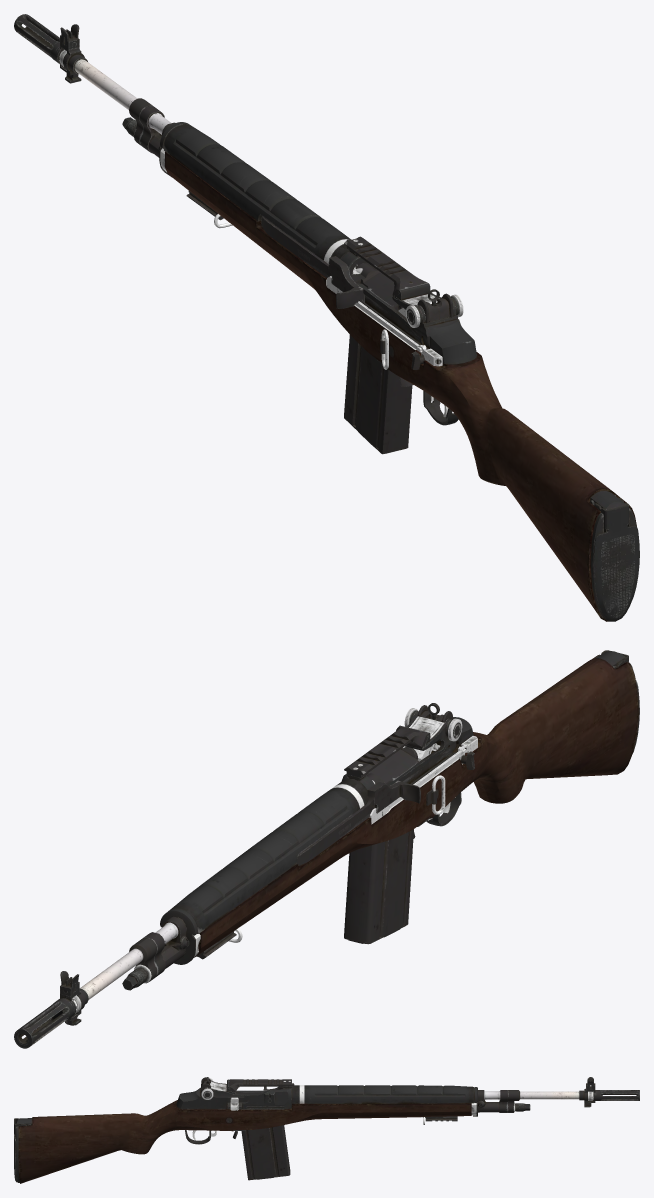
The picture shows the model from 3 angles, top to bottom: view 1: azimuth 30°, elevation 25°; view 2: azimuth 150°, elevation 25°; view 3: azimuth 270°, elevation 25°; orthographic projection. The views are drawn at different scales.
Visible parts, largest first — view 1: FRAME_LOD0.001, FRAME_LOD0; view 2: FRAME_LOD0.001, FRAME_LOD0; view 3: FRAME_LOD0.001, FRAME_LOD0.
Boxes of the visible parts, bbox=[...] form: FRAME_LOD0.001: bbox=[14, 14, 639, 621]; FRAME_LOD0: bbox=[186, 191, 427, 297]; FRAME_LOD0.001: bbox=[14, 650, 639, 1048]; FRAME_LOD0: bbox=[196, 726, 428, 959]; FRAME_LOD0.001: bbox=[14, 1077, 639, 1183]; FRAME_LOD0: bbox=[228, 1079, 457, 1121].
Size of the model in its own units: 0.0717 by 0.2038 by 1.09.
Materials: 1 (1 with a texture image).
